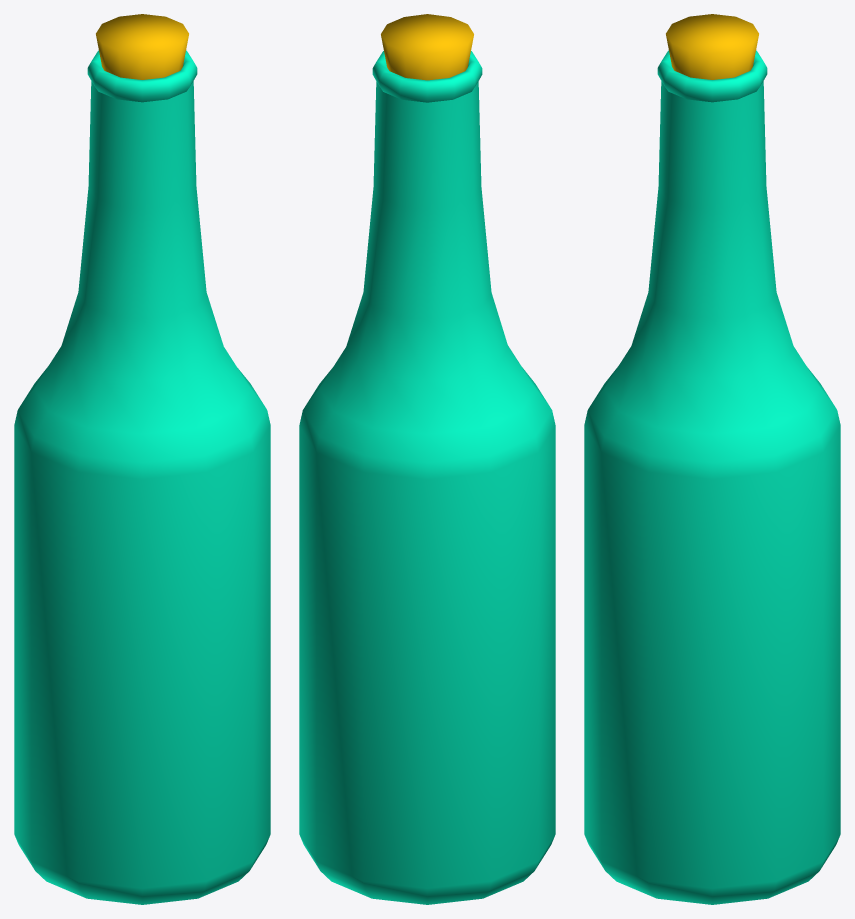
File: Bottle.fbx
3 views of the same model, side by side, from view 1: azimuth 30°, elevation 25°; view 2: azimuth 150°, elevation 25°; view 3: azimuth 270°, elevation 25° (orthographic).
Parts seen in each view (by area): view 1: Capsule001; view 2: Capsule001; view 3: Capsule001.
Part boxes in pixels (box(x1,y1,x2,y2)): Capsule001: box(14, 14, 270, 904); Capsule001: box(299, 14, 555, 904); Capsule001: box(584, 14, 840, 904).
Size of the model in its own units: 92.08 by 335 by 92.08.
